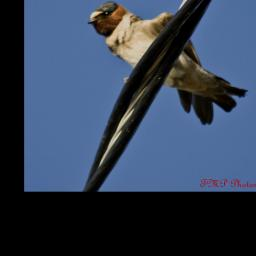Swallow: (85, 0, 249, 126)
